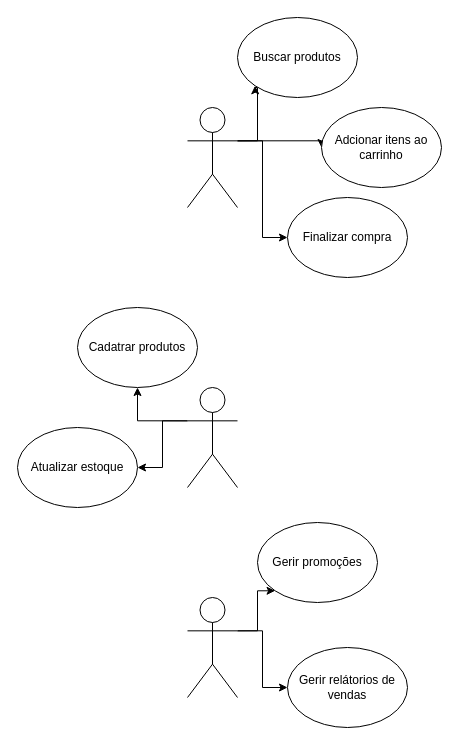
This 459x745 diagram has some shape labels left out. The centre of each missing label's shape, as x and y in pixels:
Administrador: the point at 212,647
Cliente: the point at 212,157
Vendedor: the point at 212,437
